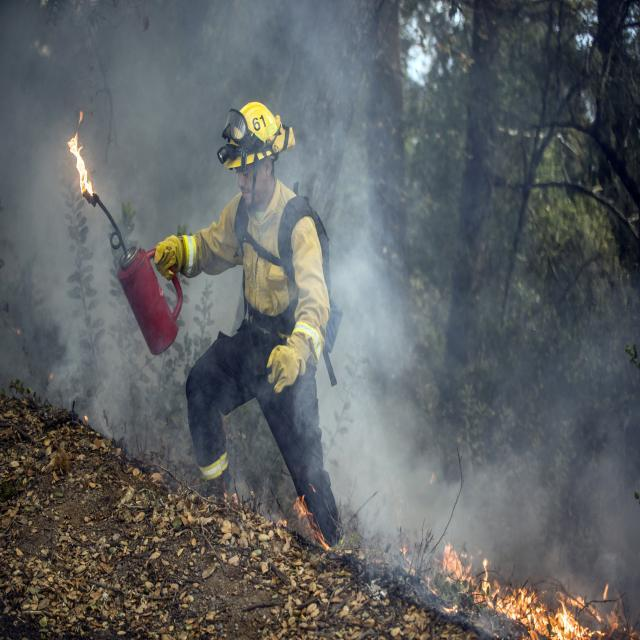Fire: (405, 542, 639, 640), (289, 496, 330, 551), (66, 131, 92, 195), (76, 109, 82, 132)
Smoke: (320, 1, 640, 450), (2, 1, 320, 104), (2, 196, 121, 440), (332, 450, 640, 540)
